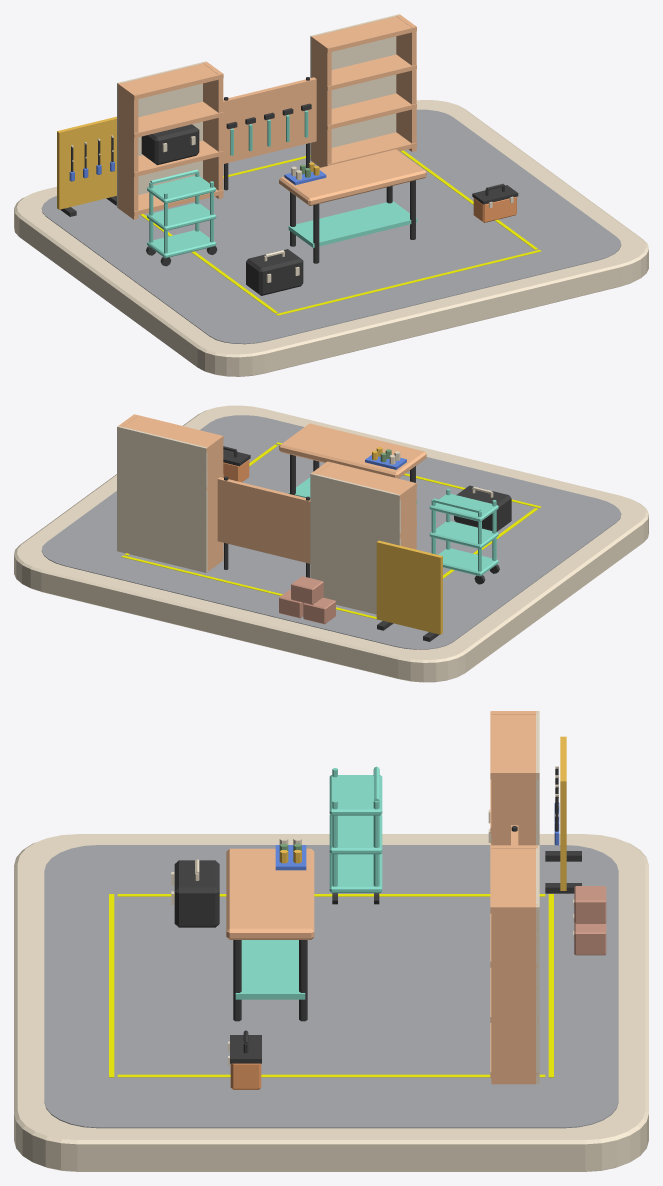
The model's file is room.fbx.
The picture shows the model from 3 angles, top to bottom: view 1: azimuth 30°, elevation 25°; view 2: azimuth 150°, elevation 25°; view 3: azimuth 270°, elevation 25°; orthographic projection. The views are drawn at different scales.
Visible parts, largest first — view 1: COM-02 Floor Surface, COM-01 Rounded Base Direct, Peg board, Panel, Back.001, Worktop, Lower shelf, Back, Side, Side.002, Case, Side.003 (+15 smaller); view 2: COM-02 Floor Surface, COM-01 Rounded Base Direct, Back.001, Back, Peg board, Panel, Worktop, Side.002, Shelf.003, Shelf.007, Case, Tray.001 (+8 smaller); view 3: COM-02 Floor Surface, COM-01 Rounded Base Direct, Worktop, Side.003, Lower shelf, Case, Shelf.003, Shelf.007, Side.001, Tray.002, Tray.001, Tray (+12 smaller).
Boxes of the visible parts, box(x1,y1,x2,y2) form: COM-02 Floor Surface: box(41, 109, 621, 344); COM-01 Rounded Base Direct: box(14, 100, 648, 376); Peg board: box(223, 77, 316, 163); Panel: box(57, 116, 116, 209); Back.001: box(310, 14, 399, 160); Worktop: box(279, 149, 426, 205); Lower shelf: box(288, 201, 417, 247); Back: box(117, 61, 206, 207); Side: box(118, 82, 138, 219); Side.002: box(311, 36, 331, 167); Case: box(246, 249, 303, 295); Side.003: box(396, 15, 416, 151); COM-02 Floor Surface: box(41, 415, 621, 649); COM-01 Rounded Base Direct: box(14, 405, 648, 682); Back.001: box(117, 426, 207, 572); Back: box(310, 473, 400, 614); Peg board: box(217, 477, 310, 563); Panel: box(376, 540, 442, 634); Worktop: box(279, 423, 426, 478); Side.002: box(203, 435, 223, 571); Shelf.003: box(316, 461, 416, 499); Shelf.007: box(123, 414, 223, 452); Case: box(454, 485, 511, 531); Tray.001: box(429, 521, 498, 549); COM-02 Floor Surface: box(44, 845, 618, 1128); COM-01 Rounded Base Direct: box(14, 834, 648, 1171); Worktop: box(226, 848, 314, 939); Side.003: box(491, 904, 537, 1084); Lower shelf: box(235, 940, 305, 999); Case: box(174, 860, 219, 927); Shelf.003: box(490, 711, 538, 779); Shelf.007: box(490, 845, 538, 913); Side.001: box(491, 770, 535, 845); Tray.002: box(329, 775, 382, 815); Tray.001: box(329, 814, 382, 854); Tray: box(329, 853, 382, 892).
Size of the model in its own units: 600 by 190 by 520.
